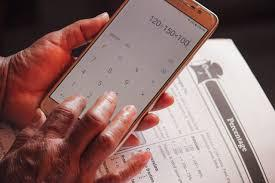Calculator: (54, 12, 195, 136)
